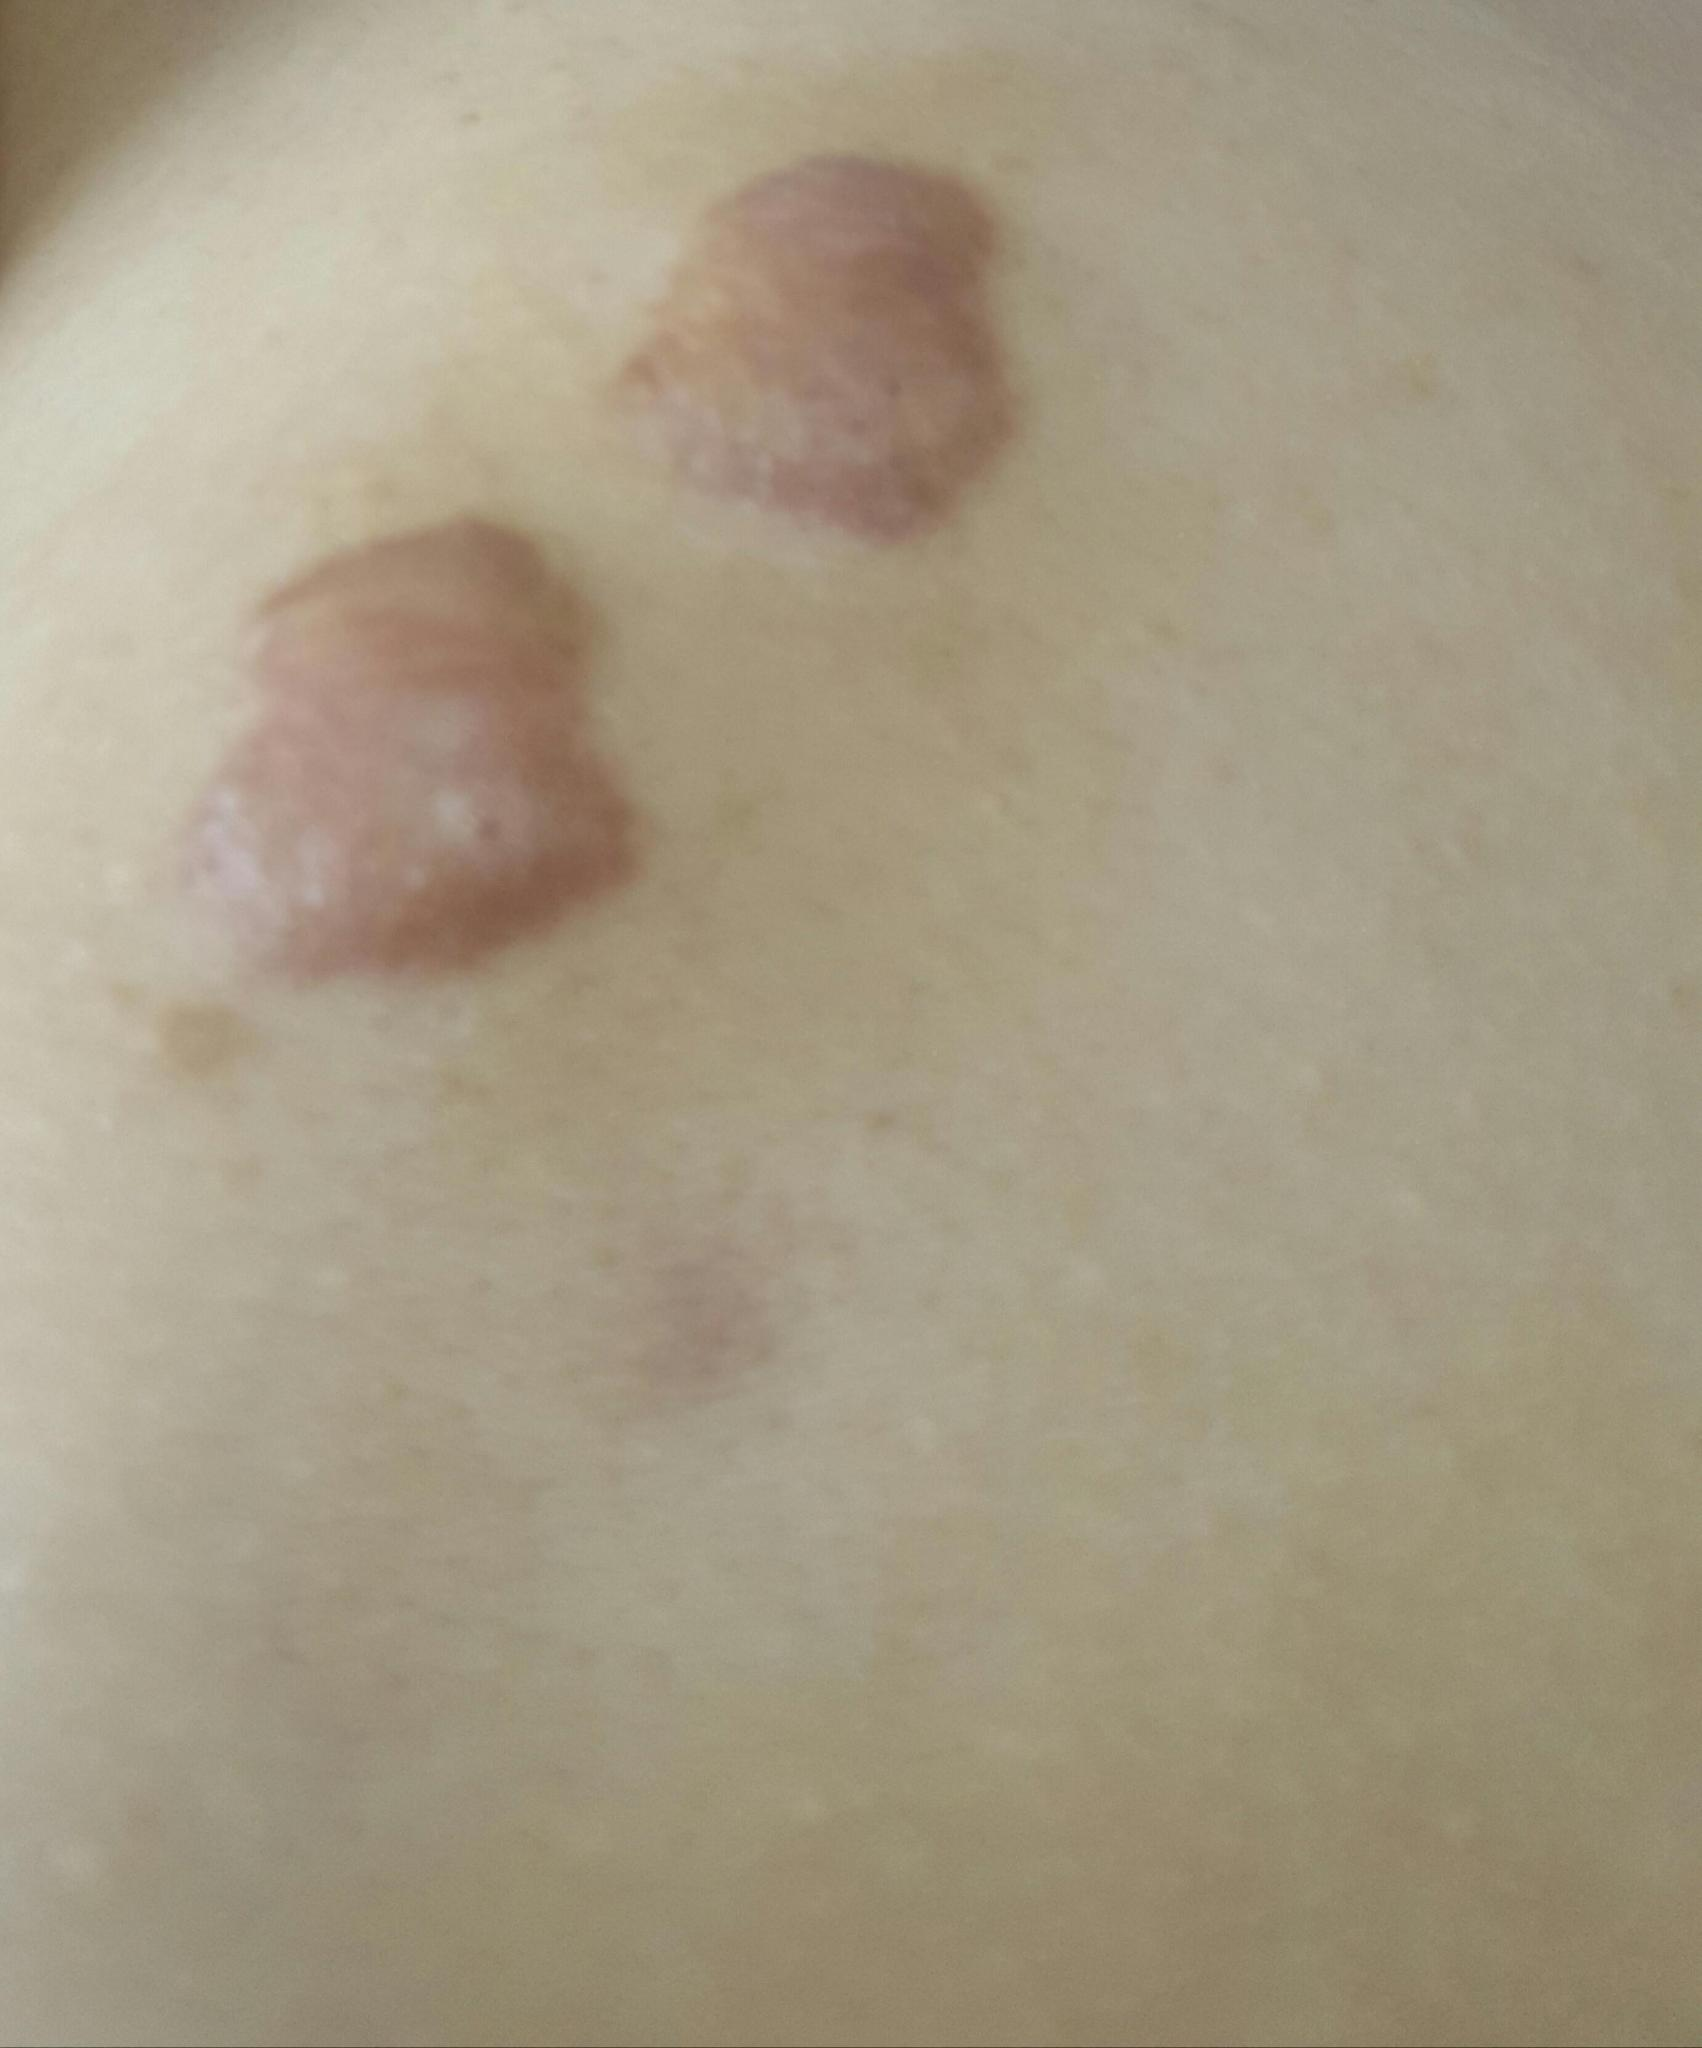keloid: (165, 481, 656, 1060), (599, 117, 1051, 572)
